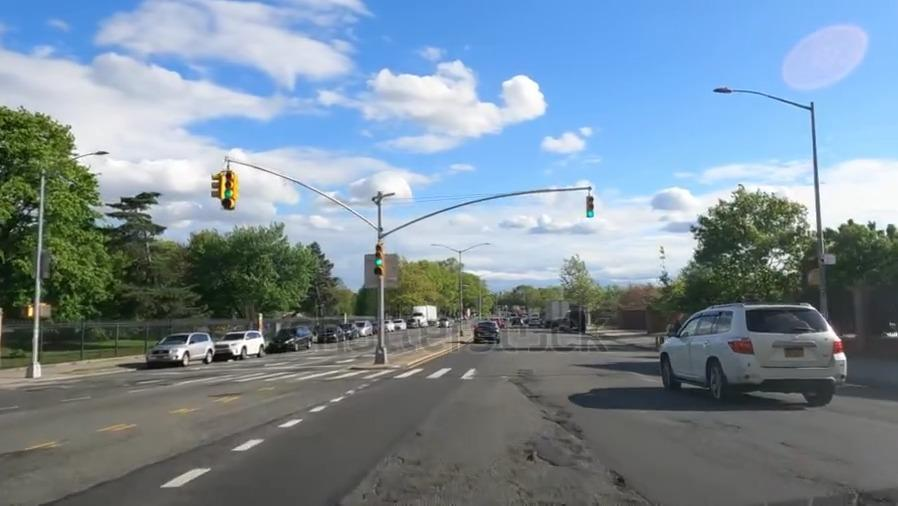car: (657, 310, 852, 406), (152, 334, 216, 363), (217, 331, 263, 359), (269, 327, 311, 353), (472, 319, 503, 344), (316, 323, 346, 346), (356, 319, 372, 337), (343, 321, 358, 338)
pedestrian: (147, 362, 491, 387)
pothole: (605, 461, 631, 493)
road crack: (516, 425, 594, 473), (526, 388, 575, 426), (509, 362, 541, 395)
traffic light: (211, 165, 239, 214), (371, 235, 387, 283), (578, 187, 599, 223)
